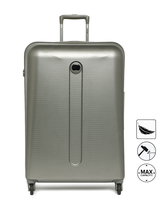bag: (19, 12, 131, 196)
